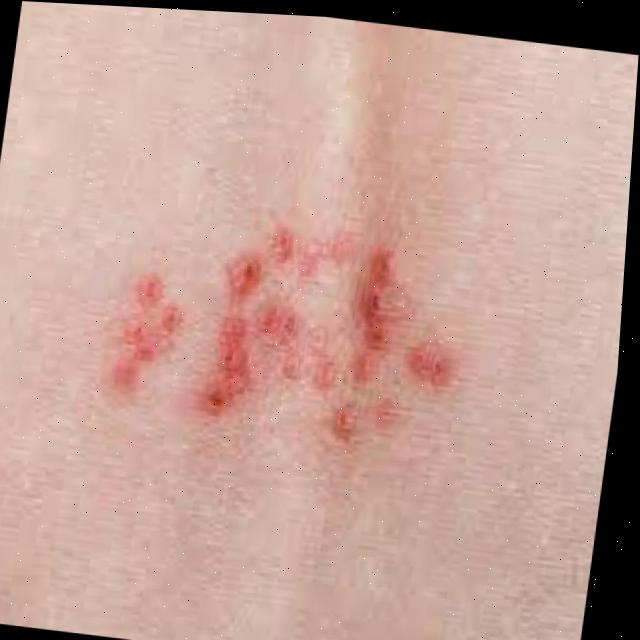Shingles: (111, 216, 458, 436)
